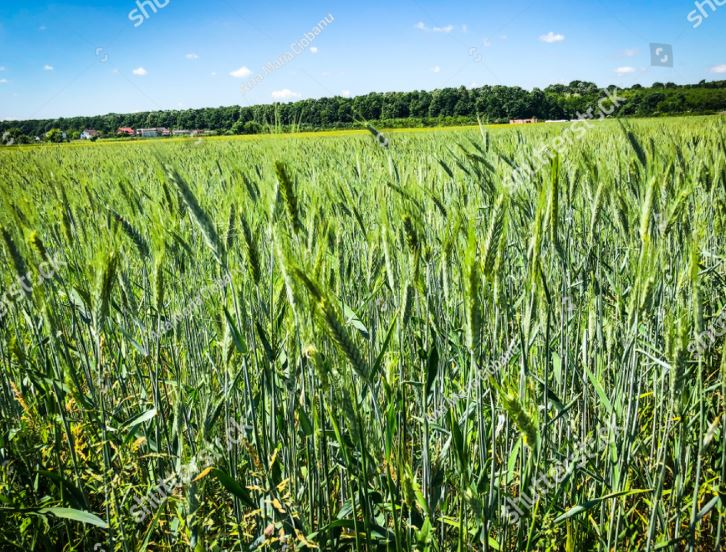Wheat: (102, 161, 577, 422)
